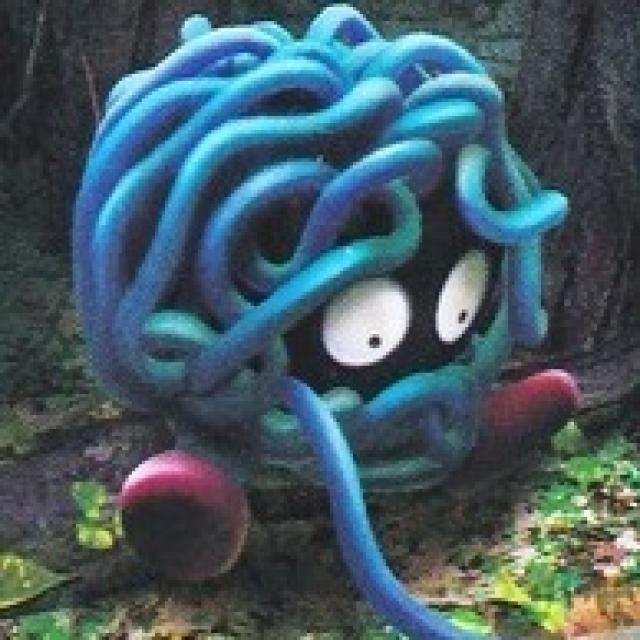Tangela: (95, 20, 569, 572)
